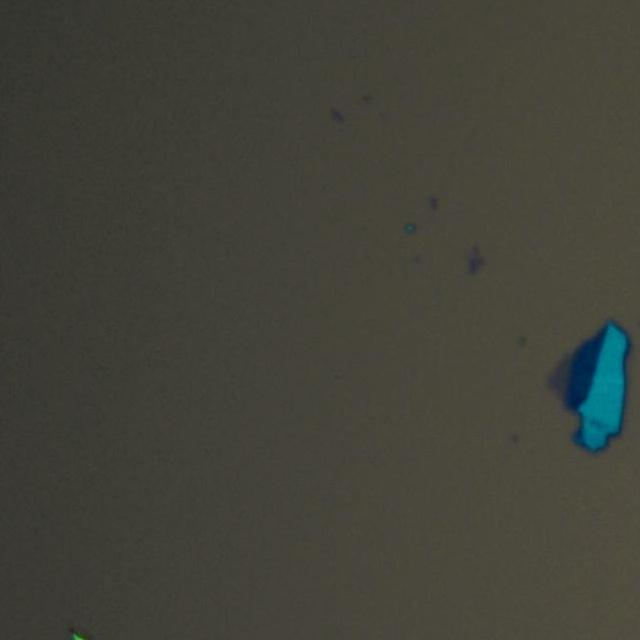monolayer-eWW4: (548, 352, 572, 398)
